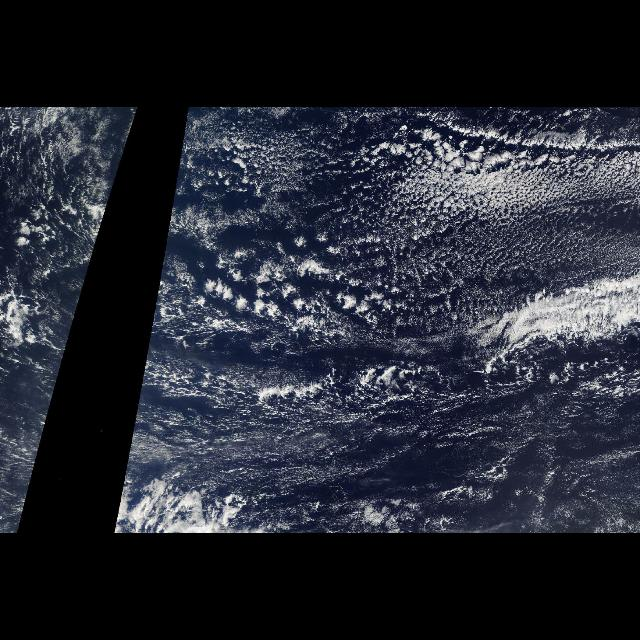Fish: (440, 274, 640, 388)
Gravel: (142, 240, 322, 466)
Sugar: (249, 316, 635, 528)
